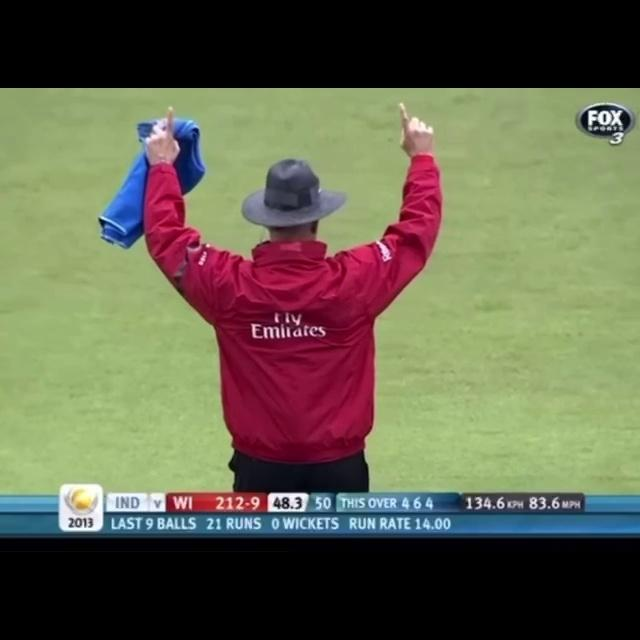umpire: (109, 88, 477, 490)
